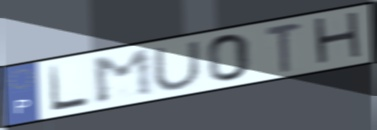0: (204, 32, 256, 85)
H: (311, 9, 365, 69)
L: (46, 63, 92, 114)
M: (88, 46, 158, 107)
T: (263, 21, 305, 75)
U: (150, 38, 205, 92)
